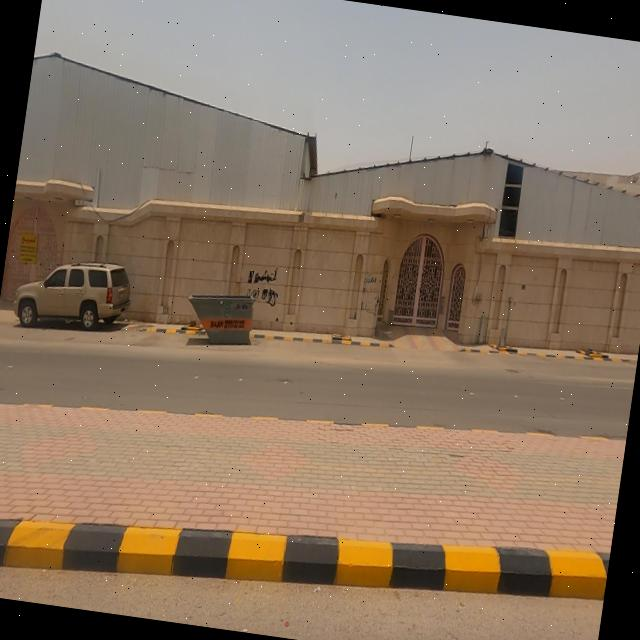Graffiti: (360, 272, 384, 319), (248, 265, 279, 289), (254, 286, 280, 311)
